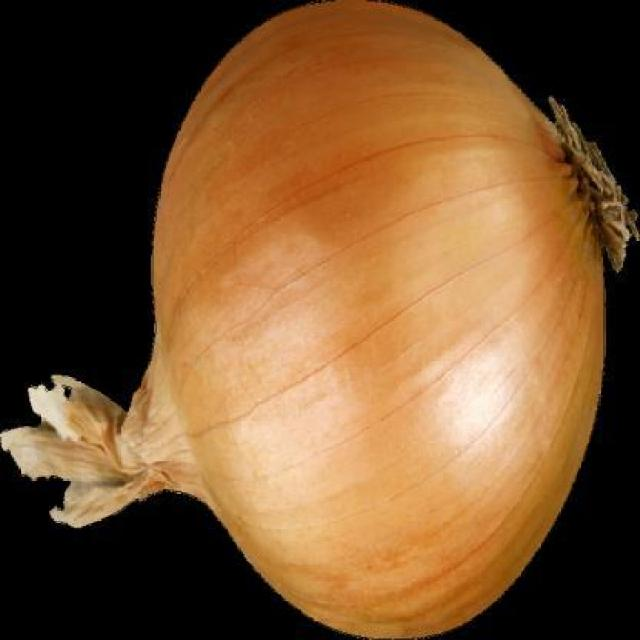onion: (116, 20, 592, 626)
